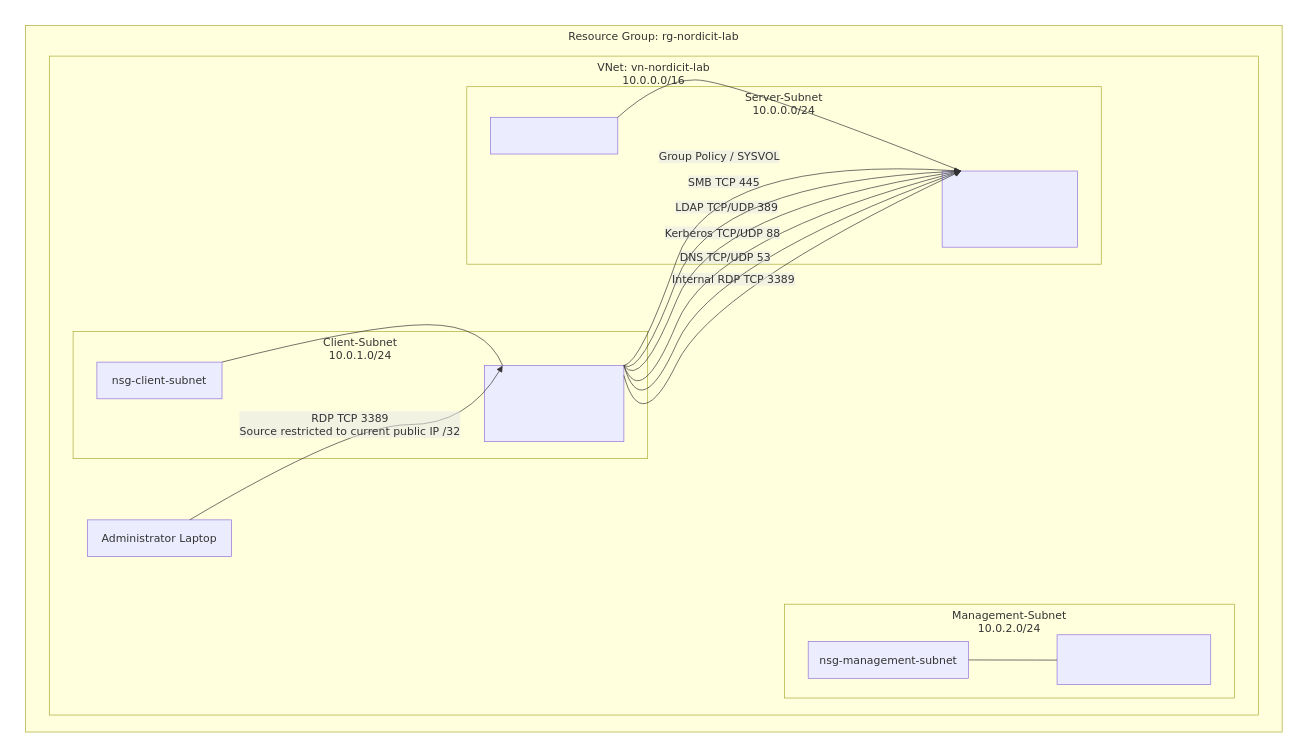
This 1294x744 diagram has some shape labels left out. The centre of each missing label's shape, as x and y in pixels:
"CLIENT01 vm-client01 Private IP: 10.0.1.4 Public RDP endpoint" goes at [554,403].
"DC01 vm-dc01 Private IP: 10.0.0.4 No public IP" goes at [1009,208].
"nsg-server-subnet" goes at [554,135].
"Reserved for future management resources" goes at [1133,659].
